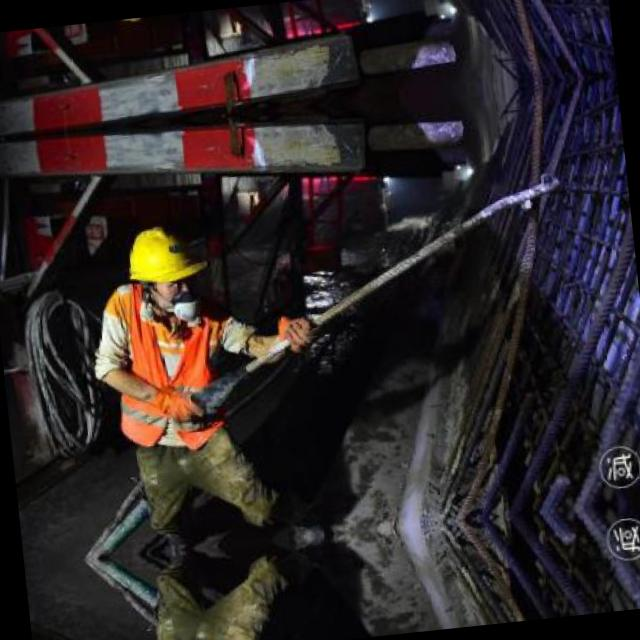helmet: (122, 219, 200, 318)
